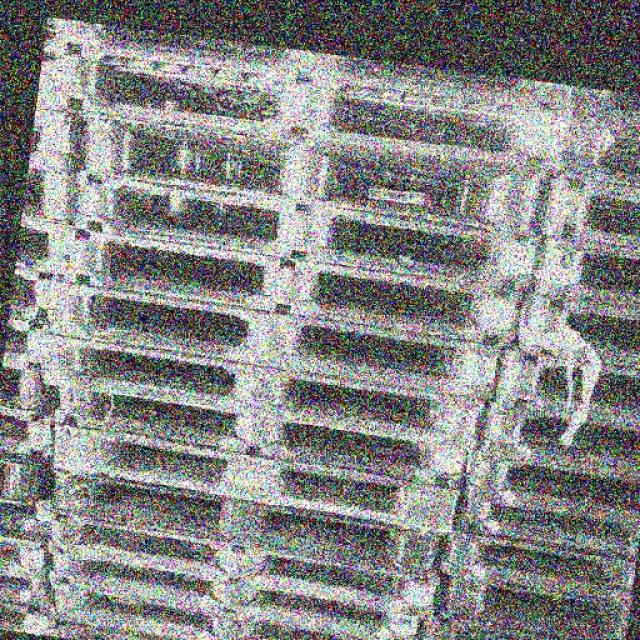igps: (73, 30, 583, 182), (71, 104, 562, 253), (62, 162, 549, 302), (56, 216, 534, 355), (42, 272, 508, 413), (34, 320, 494, 458), (44, 370, 476, 497), (46, 416, 468, 540), (42, 457, 450, 583), (42, 499, 445, 626), (48, 578, 373, 640), (432, 521, 640, 611), (447, 473, 640, 566), (449, 429, 640, 521), (469, 380, 640, 482), (434, 563, 638, 640), (488, 332, 640, 432), (504, 271, 640, 375), (519, 223, 640, 316), (526, 162, 640, 258), (555, 100, 639, 196), (9, 206, 82, 292), (22, 102, 91, 186), (3, 256, 69, 338), (15, 160, 85, 237), (33, 50, 105, 120), (36, 13, 109, 71), (0, 395, 64, 460), (0, 347, 62, 413), (0, 314, 64, 376), (0, 444, 60, 510), (0, 586, 62, 640), (0, 526, 57, 584), (0, 560, 61, 611)
